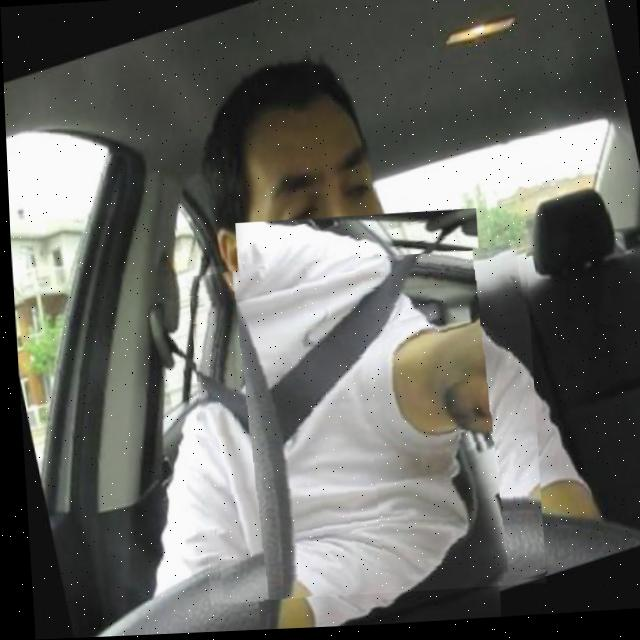seatbelt: (185, 250, 539, 604)
